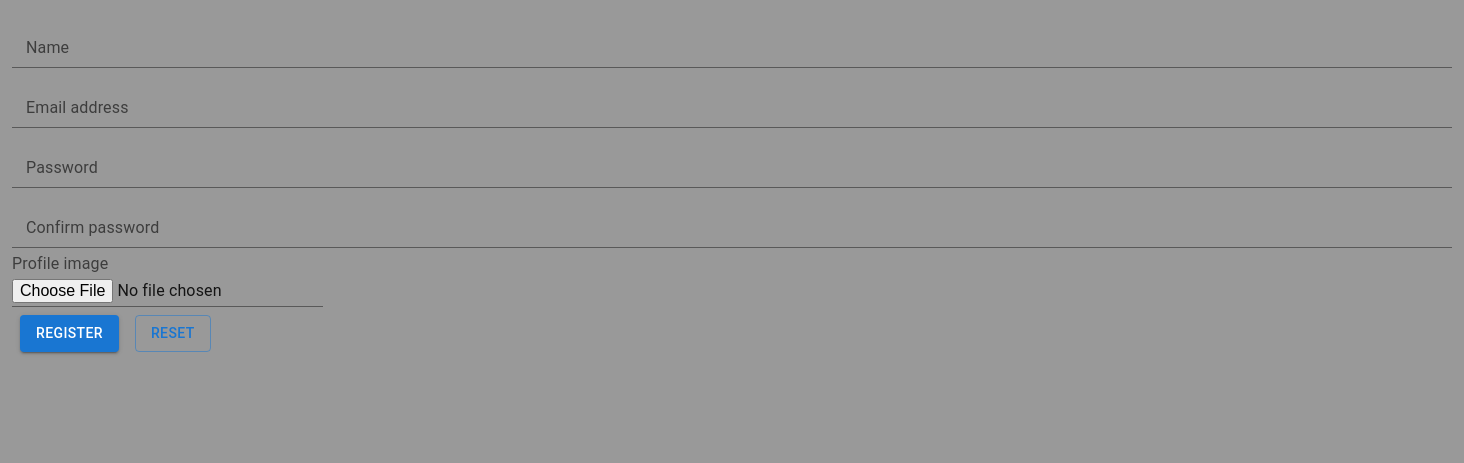
Test case: Register › schema validation › should display password and confirmPassword too short errors
Type "a" into the password field labelled "Password" at (732, 172), box [12,156,1452,188]
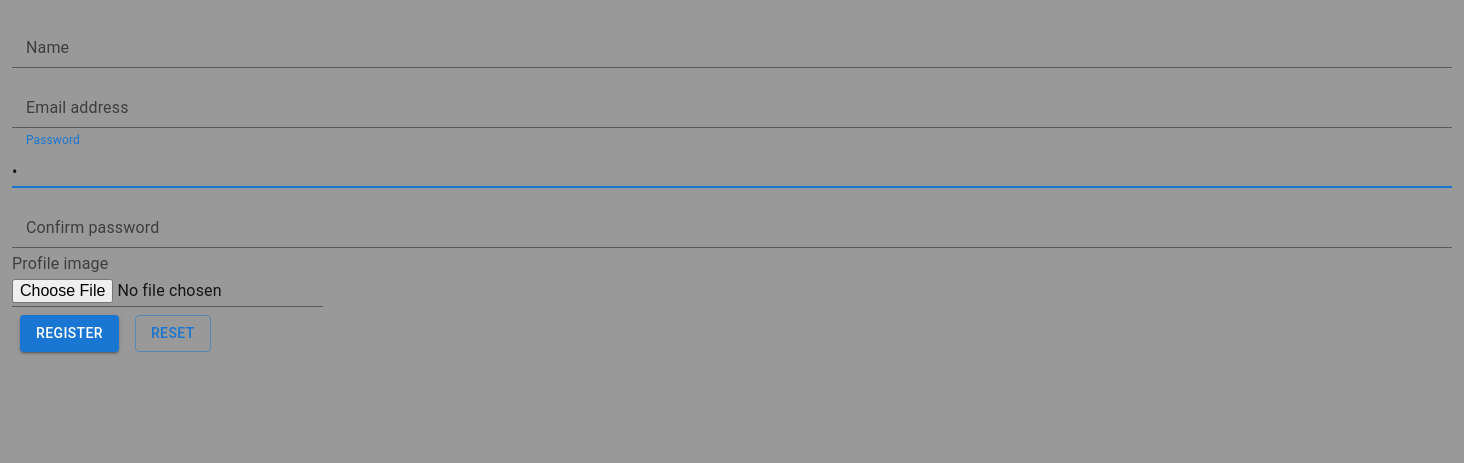
Type "a" into the password field labelled "Confirm password" at (732, 232), box [12,216,1452,248]
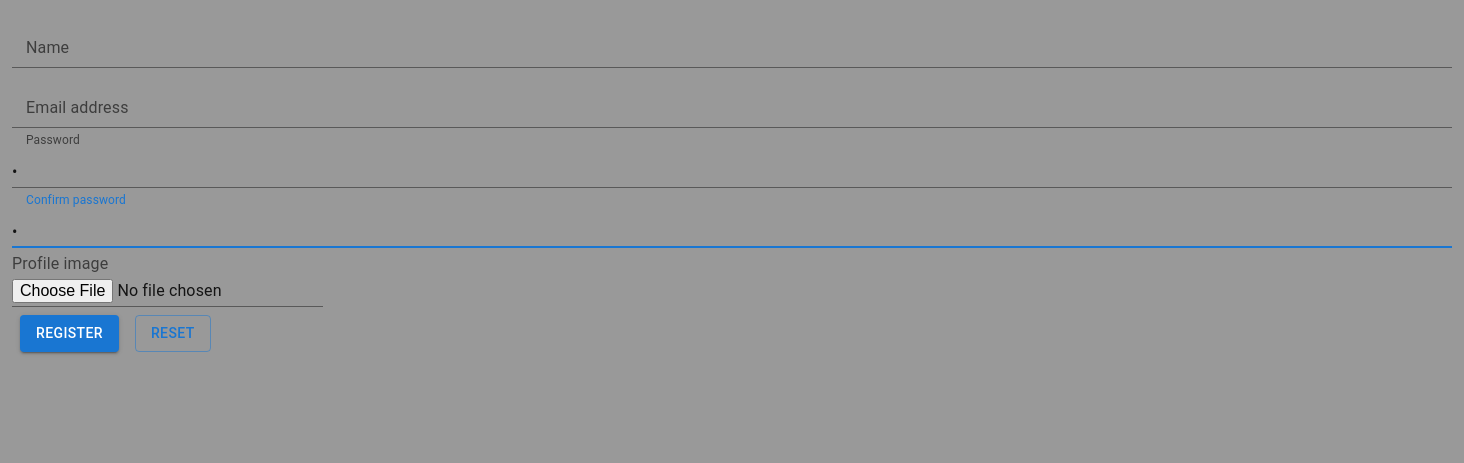
Click the button "Register" at (70, 333), box [20,315,119,352]
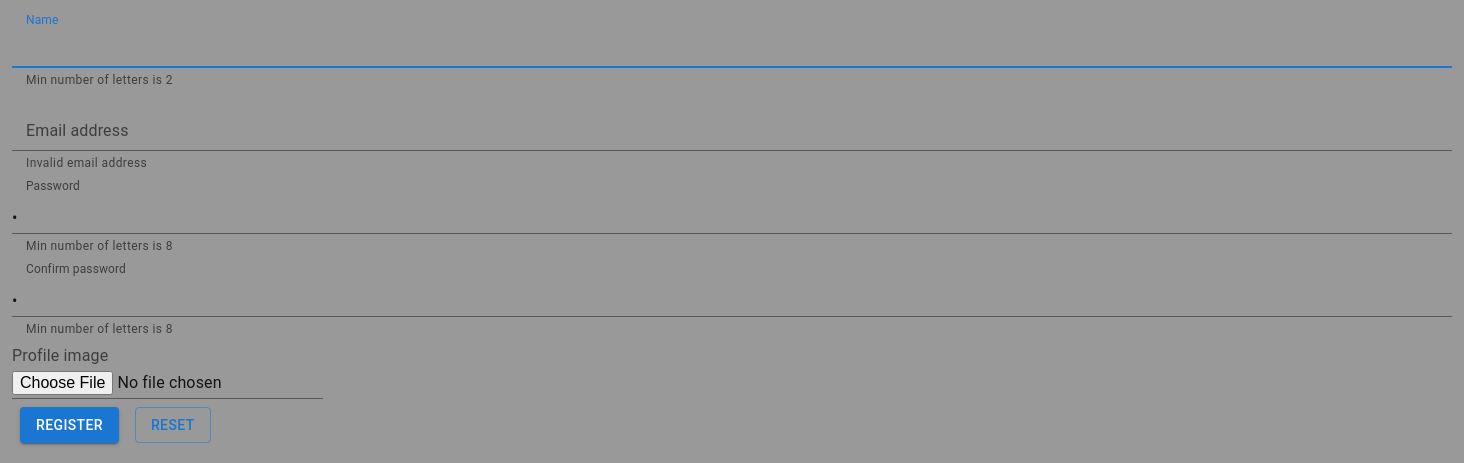
expect the text "Min number of letters is 8" is shown 2 times: met, box [26,239,173,253]; [26,322,173,336]
